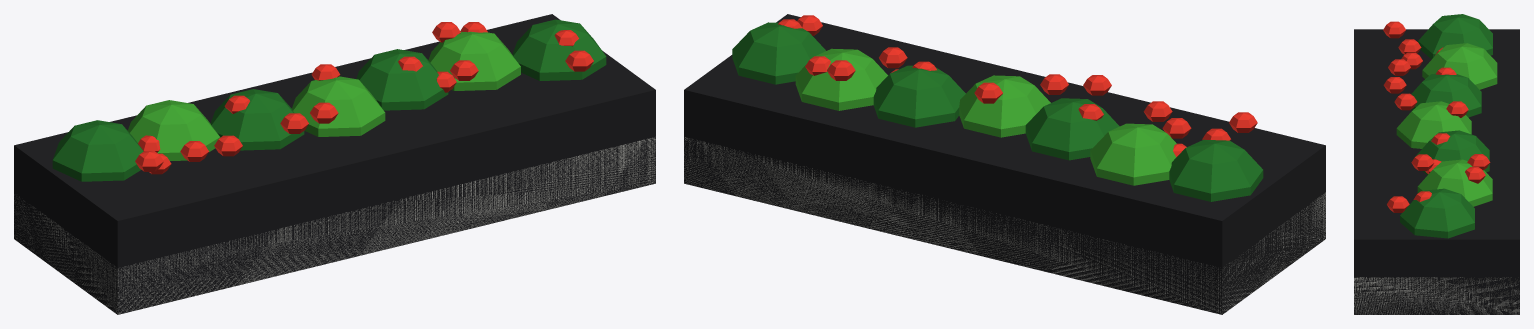
Rendered from env_pbg_flowerbed.fbx.
3 views of the same model, side by side, from view 1: azimuth 30°, elevation 25°; view 2: azimuth 150°, elevation 25°; view 3: azimuth 270°, elevation 25° (orthographic). The views are drawn at different scales.
Parts seen in each view (by area): view 1: COL_env_pbg_flowerbed, env_pbg_flowerbed_geo_LOD0; view 2: COL_env_pbg_flowerbed, env_pbg_flowerbed_geo_LOD0; view 3: COL_env_pbg_flowerbed, env_pbg_flowerbed_geo_LOD0.
Part boxes in pixels (x1,y1,x2,y2): COL_env_pbg_flowerbed: (14, 14, 655, 314); env_pbg_flowerbed_geo_LOD0: (14, 19, 655, 314); COL_env_pbg_flowerbed: (684, 14, 1325, 314); env_pbg_flowerbed_geo_LOD0: (684, 15, 1325, 313); COL_env_pbg_flowerbed: (1354, 29, 1519, 314); env_pbg_flowerbed_geo_LOD0: (1354, 14, 1519, 314).
Size of what is drawn, in the model's own units: 6 by 1.45 by 2.
